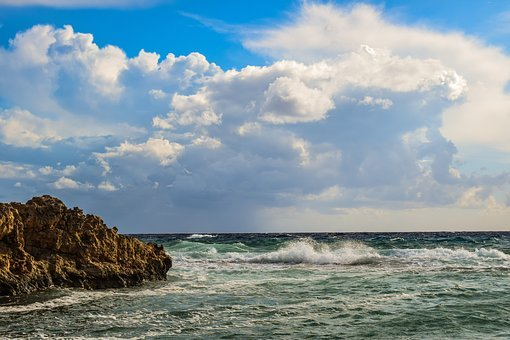sea: (123, 233, 510, 333)
sky: (7, 2, 510, 227)
stone: (6, 203, 167, 285)
